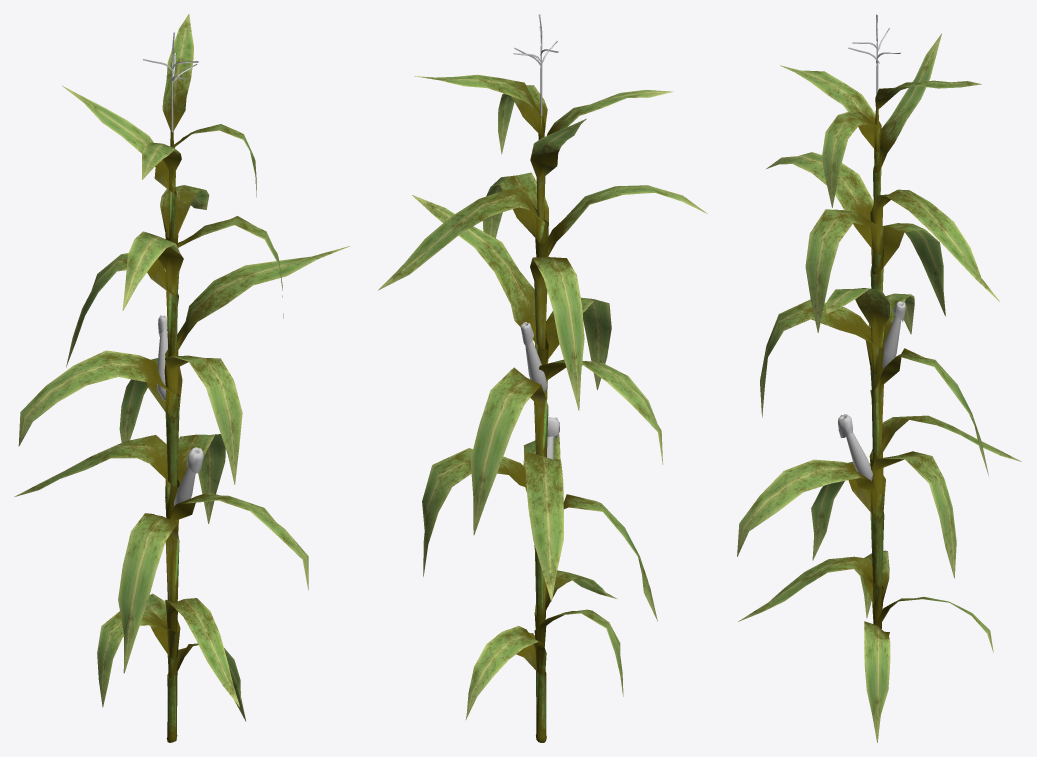
Rendered from PorumbStage4.fbx.
3 renders of one model, left to right at view 1: azimuth 30°, elevation 25°; view 2: azimuth 150°, elevation 25°; view 3: azimuth 270°, elevation 25°, orthographic. The views are drawn at different scales.
Parts seen in each view (by area): view 1: SM_Plant_00; view 2: SM_Plant_00; view 3: SM_Plant_00.
Boxes of the visible parts, box(x1,y1,x2,y2) form: SM_Plant_00: box(14, 14, 349, 742); SM_Plant_00: box(378, 14, 707, 742); SM_Plant_00: box(737, 14, 1021, 742).
Size of the model in its own units: 89.47 by 78.38 by 211.
